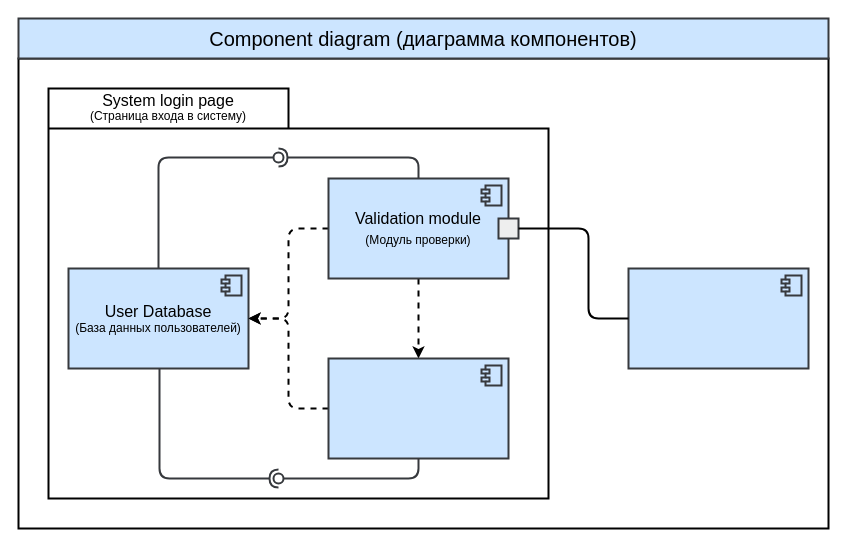
This 846x546 diagram has some shape labels left out. Each missing label, with the centre of its shape:
"System dashboard (Cистемная панель)" belongs at point 418,408.
"User login information (Информация для входа пользователя)" belongs at point 718,318.
